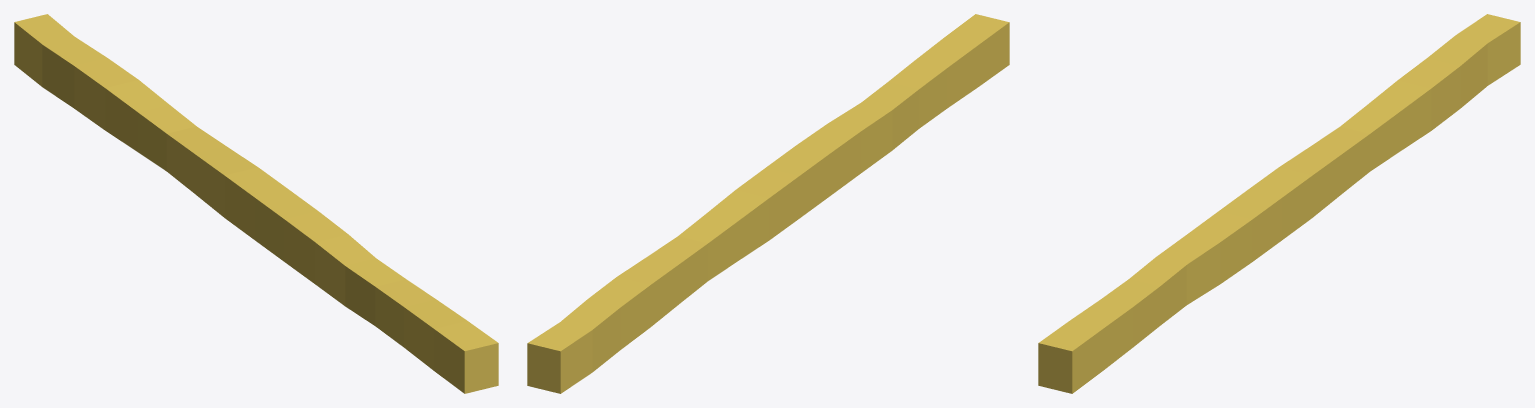
Rendered from 左横木柱1.fbx.
3 renders of one model, left to right at view 1: azimuth 30°, elevation 25°; view 2: azimuth 150°, elevation 25°; view 3: azimuth 330°, elevation 25°, orthographic.
Parts seen in each view (by area): view 1: L.wood.4; view 2: L.wood.4; view 3: L.wood.4.
Boxes of the visible parts, x1=… form: L.wood.4: x1=14, y1=14, x2=498, y2=393; L.wood.4: x1=527, y1=14, x2=1009, y2=393; L.wood.4: x1=1038, y1=14, x2=1520, y2=393.
Bounding box in the file's own units: 33.99 × 38.14 × 728.
